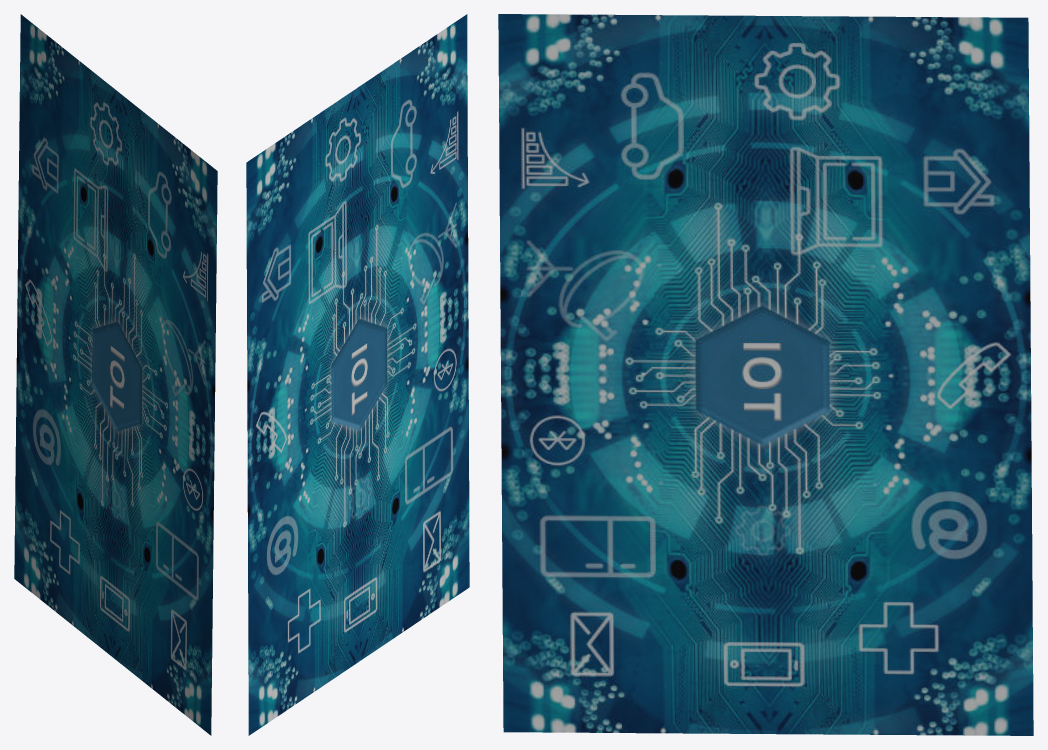
Rendered from backgrouond.glb.
The picture shows the model from 3 angles, left to right: view 1: azimuth 30°, elevation 25°; view 2: azimuth 150°, elevation 25°; view 3: azimuth 270°, elevation 25°; orthographic projection. The views are drawn at different scales.
Parts seen in each view (by area): view 1: istockphoto-1184401187-612x612; view 2: istockphoto-1184401187-612x612; view 3: istockphoto-1184401187-612x612.
Boxes of the visible parts, left/top/right/bottom form: istockphoto-1184401187-612x612: left=14, top=14, right=217, bottom=735; istockphoto-1184401187-612x612: left=246, top=14, right=469, bottom=735; istockphoto-1184401187-612x612: left=498, top=14, right=1033, bottom=735.
Size of the model in its own units: 1.06 by 37.82 by 25.34.
1 material, 1 textured.
